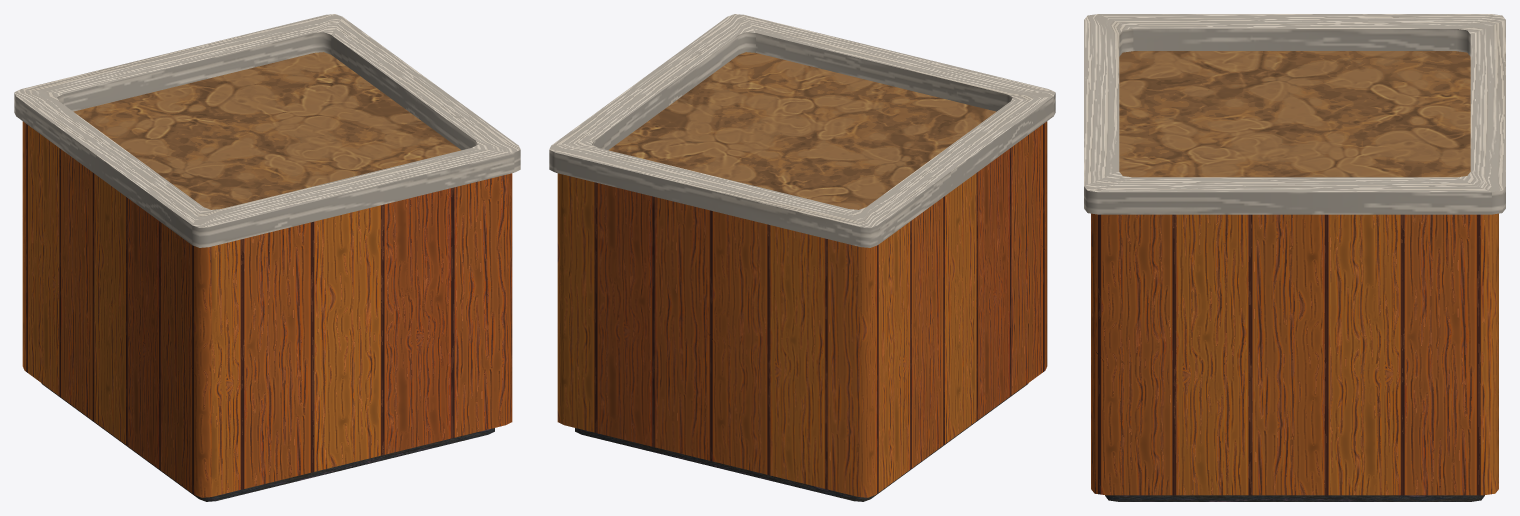
File: StreetPlanter05_1.FBX
3 renders of one model, left to right at view 1: azimuth 30°, elevation 25°; view 2: azimuth 150°, elevation 25°; view 3: azimuth 270°, elevation 25°, orthographic. The views are drawn at different scales.
Parts seen in each view (by area): view 1: StreetPlanter05_1; view 2: StreetPlanter05_1; view 3: StreetPlanter05_1.
Boxes of the visible parts, box(x1,y1,x2,y2) form: StreetPlanter05_1: box(14, 14, 520, 501); StreetPlanter05_1: box(549, 14, 1055, 501); StreetPlanter05_1: box(1084, 14, 1505, 501).
Size of what is drawn, in the model's own units: 0.72 by 0.6 by 0.72.
